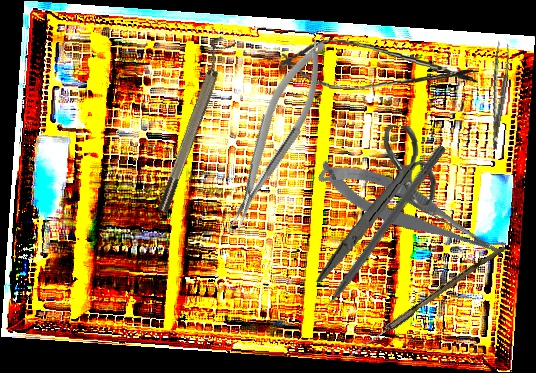Fixation Ring: (147, 33, 237, 215)
Iris Scissors: (313, 120, 441, 290)
Micro Scissor: (311, 141, 512, 285), (279, 36, 481, 99)
Needle Holder: (210, 32, 342, 236)
Pusher: (306, 142, 448, 330)
Surgical Spoon: (343, 241, 507, 364)
Tissue Forceps: (479, 40, 516, 150)
